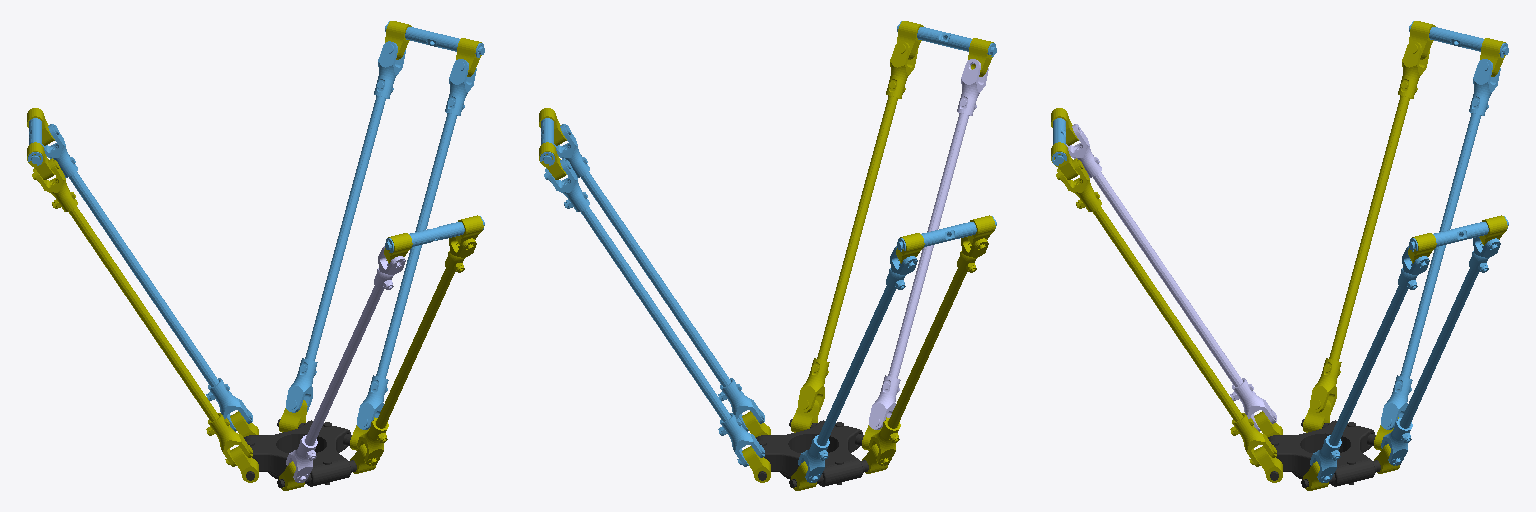
--- What the picture shows (computed from the rendered views, not written in the file) ---
3 views of the same robot in one strip: view 1: azimuth 30°, elevation 25°; view 2: azimuth 150°, elevation 25°; view 3: azimuth 270°, elevation 25° (orthographic).
Robot: DeltaManipulator_low — 22 links, 21 joints (21 continuous); root link low_base_link; default pose: every joint at zero.
Visible links, largest first — view 1: con222, con221, con322, con321, low_base_link, con121, con122, con201, con101, con212, con211; view 2: con122, con121, con222, con221, low_base_link, con321, con322, con301, con101, con111, con112; view 3: con322, con321, con122, con121, low_base_link, con221, con222, con301, con201, con312, con311.
Boxes of the visible links, box(x1,y1,x2,y2) form: con222: box(286, 41, 405, 412); con221: box(357, 59, 476, 429); con322: box(32, 158, 252, 466); con321: box(42, 124, 252, 431); low_base_link: box(244, 419, 376, 487); con121: box(286, 246, 405, 482); con122: box(357, 237, 476, 465); con201: box(385, 21, 484, 57); con101: box(385, 216, 484, 252); con212: box(385, 21, 411, 59); con211: box(456, 38, 481, 76); con122: box(798, 41, 917, 412); con121: box(869, 59, 988, 429); con222: box(544, 158, 764, 466); con221: box(554, 124, 764, 431); low_base_link: box(756, 419, 888, 487); con321: box(798, 246, 917, 482); con322: box(869, 237, 988, 465); con301: box(897, 216, 996, 251); con101: box(897, 21, 996, 56); con111: box(968, 38, 993, 76); con112: box(897, 21, 923, 59); con322: box(1310, 41, 1429, 412); con321: box(1381, 59, 1500, 429); con122: box(1056, 158, 1276, 466); con121: box(1066, 124, 1276, 431); low_base_link: box(1268, 419, 1400, 487); con221: box(1310, 246, 1429, 482); con222: box(1381, 237, 1500, 465); con301: box(1409, 21, 1508, 57); con201: box(1409, 216, 1508, 251); con312: box(1409, 21, 1435, 59); con311: box(1480, 38, 1505, 76).
Size in the robot's own frame: 0.3086 by 0.2681 by 0.2194 metres.
Meshes: 22 distinct files referenced, 22 mesh visuals loaded (22 binary STL).

URDF robot description (DeltaManipulator_low):
<?xml version="1.0" encoding="utf-8"?>
<!-- This URDF was automatically created by SolidWorks to URDF Exporter! Originally created by Stephen Brawner ([email redacted]) 
     Commit Version: 1.6.0-4-g7f85cfe  Build Version: 1.6.7995.38578
     For more information, please see http://wiki.ros.org/sw_urdf_exporter -->
<robot
  name="DeltaManipulator_low">
  <link
    name="low_base_link">
    <inertial>
      <origin
        xyz="1.67429367314842E-08 -1.09064797887415E-08 0.00928236062621901"
        rpy="0 0 0" />
      <mass
        value="0.0277052530707091" />
      <inertia
        ixx="7.21837490929565E-06"
        ixy="8.45348384024696E-15"
        ixz="4.72158451757837E-13"
        iyy="7.2183677173191E-06"
        iyz="2.82195144917255E-12"
        izz="1.36261235680752E-05" />
    </inertial>
    <visual>
      <origin
        xyz="0 0 0"
        rpy="0 0 0" />
      <geometry>
        <mesh
          filename="package://DeltaManipulator_low/meshes/low_base_link.STL" />
      </geometry>
      <material
        name="">
        <color
          rgba="0.23921568627451 0.23921568627451 0.23921568627451 1" />
      </material>
    </visual>
    <collision>
      <origin
        xyz="0 0 0"
        rpy="0 0 0" />
      <geometry>
        <mesh
          filename="package://DeltaManipulator_low/meshes/low_base_link.STL" />
      </geometry>
    </collision>
  </link>
  <link
    name="con132">
    <inertial>
      <origin
        xyz="-0.00839999999997948 -0.00255110064289737 0.00414343199090861"
        rpy="0 0 0" />
      <mass
        value="0.00144663342057291" />
      <inertia
        ixx="5.69218111313244E-08"
        ixy="2.44273409935316E-21"
        ixz="-4.1450722802468E-21"
        iyy="5.34923009400709E-08"
        iyz="1.74286623637077E-08"
        izz="3.5915899723966E-08" />
    </inertial>
    <visual>
      <origin
        xyz="0 0 0"
        rpy="0 0 0" />
      <geometry>
        <mesh
          filename="package://DeltaManipulator_low/meshes/con132.STL" />
      </geometry>
      <material
        name="">
        <color
          rgba="0.701960784313725 0.701960784313725 0.0235294117647059 1" />
      </material>
    </visual>
    <collision>
      <origin
        xyz="0 0 0"
        rpy="0 0 0" />
      <geometry>
        <mesh
          filename="package://DeltaManipulator_low/meshes/con132.STL" />
      </geometry>
    </collision>
  </link>
  <joint
    name="low_base_link_joint_con132"
    type="continuous">
    <origin
      xyz="0.0324 -0.03 0.01"
      rpy="0 0 0" />
    <parent
      link="low_base_link" />
    <child
      link="con132" />
    <axis
      xyz="1 0 0" />
    <limit
      lower="0"
      upper="0"
      effort="0"
      velocity="0" />
  </joint>
  <link
    name="con122">
    <inertial>
      <origin
        xyz="-0.00856714284415805 -0.107997535306405 4.26722990276573E-10"
        rpy="0 0 0" />
      <mass
        value="0.00805476418830123" />
      <inertia
        ixx="1.33289086435156E-05"
        ixy="-9.92148821070217E-13"
        ixz="-1.33623279028778E-13"
        iyy="1.17270399799116E-07"
        iyz="1.13827651604611E-13"
        izz="1.33651118373459E-05" />
    </inertial>
    <visual>
      <origin
        xyz="0 0 0"
        rpy="0 0 0" />
      <geometry>
        <mesh
          filename="package://DeltaManipulator_low/meshes/con122.STL" />
      </geometry>
      <material
        name="">
        <color
          rgba="0.701960784313725 0.701960784313725 0.0235294117647059 1" />
      </material>
    </visual>
    <collision>
      <origin
        xyz="0 0 0"
        rpy="0 0 0" />
      <geometry>
        <mesh
          filename="package://DeltaManipulator_low/meshes/con122.STL" />
      </geometry>
    </collision>
  </link>
  <joint
    name="con112_joint_con122"
    type="continuous">
    <origin
      xyz="-0.00839999999996208 -0.01369988040628 0.00565714387855465"
      rpy="-1.57079632679487 0.551881879692126 -1.57079632679488" />
    <parent
      link="con132" />
    <child
      link="con122" />
    <axis
      xyz="-1 0 0" />
  </joint>
  <link
    name="con112">
    <inertial>
      <origin
        xyz="-0.00870000000003146 -0.00713418628051073 1.02973185533983E-14"
        rpy="0 0 0" />
      <mass
        value="0.00144663342057292" />
      <inertia
        ixx="6.4223084468379E-08"
        ixy="-4.44708840920759E-20"
        ixz="4.25903745385736E-23"
        iyy="2.51851161956578E-08"
        iyz="-3.95245231882737E-21"
        izz="5.69218111313244E-08" />
    </inertial>
    <visual>
      <origin
        xyz="0 0 0"
        rpy="0 0 0" />
      <geometry>
        <mesh
          filename="package://DeltaManipulator_low/meshes/con112.STL" />
      </geometry>
      <material
        name="">
        <color
          rgba="0.701960784313725 0.701960784313725 0.0235294117647059 1" />
      </material>
    </visual>
    <collision>
      <origin
        xyz="0 0 0"
        rpy="0 0 0" />
      <geometry>
        <mesh
          filename="package://DeltaManipulator_low/meshes/con112.STL" />
      </geometry>
    </collision>
  </link>
  <joint
    name="con122_joint_con112"
    type="continuous">
    <origin
      xyz="0 -0.216000000000204 0"
      rpy="0 0 0" />
    <parent
      link="con122" />
    <child
      link="con112" />
    <axis
      xyz="-1 0 0" />
  </joint>
  <link
    name="con131">
    <inertial>
      <origin
        xyz="0.00840000000002056 -0.00255110064282124 0.00414343199086303"
        rpy="0 0 0" />
      <mass
        value="0.00144663342057292" />
      <inertia
        ixx="5.69218111313244E-08"
        ixy="2.42626352802046E-21"
        ixz="-4.12111242747796E-21"
        iyy="5.34923009400604E-08"
        iyz="1.74286623637129E-08"
        izz="3.59158997239764E-08" />
    </inertial>
    <visual>
      <origin
        xyz="0 0 0"
        rpy="0 0 0" />
      <geometry>
        <mesh
          filename="package://DeltaManipulator_low/meshes/con131.STL" />
      </geometry>
      <material
        name="">
        <color
          rgba="0.701960784313725 0.701960784313725 0.0235294117647059 1" />
      </material>
    </visual>
    <collision>
      <origin
        xyz="0 0 0"
        rpy="0 0 0" />
      <geometry>
        <mesh
          filename="package://DeltaManipulator_low/meshes/con131.STL" />
      </geometry>
    </collision>
  </link>
  <joint
    name="low_base_link_joint_con131"
    type="continuous">
    <origin
      xyz="-0.0324 -0.03 0.01"
      rpy="0 0 0" />
    <parent
      link="low_base_link" />
    <child
      link="con131" />
    <axis
      xyz="1 0 0" />
    <limit
      lower="0"
      upper="0"
      effort="0"
      velocity="0" />
  </joint>
  <link
    name="con121">
    <inertial>
      <origin
        xyz="-0.00856312123601444 -0.105002630041547 4.38555969317633E-10"
        rpy="0 0 0" />
      <mass
        value="0.00783743241112671" />
      <inertia
        ixx="1.33284062101042E-05"
        ixy="-9.92148821731961E-13"
        ixz="-1.33623279176585E-13"
        iyy="1.11814965966809E-07"
        iyz="1.13827550161805E-13"
        izz="1.33596564035138E-05" />
    </inertial>
    <visual>
      <origin
        xyz="0 0 0"
        rpy="0 0 0" />
      <geometry>
        <mesh
          filename="package://DeltaManipulator_low/meshes/con121.STL" />
      </geometry>
      <material
        name="">
        <color
          rgba="0.823529411764706 0.823529411764706 1 1" />
      </material>
    </visual>
    <collision>
      <origin
        xyz="0 0 0"
        rpy="0 0 0" />
      <geometry>
        <mesh
          filename="package://DeltaManipulator_low/meshes/con121.STL" />
      </geometry>
    </collision>
  </link>
  <joint
    name="con111_joint_con121"
    type="continuous">
    <origin
      xyz="0.0084000000000389 -0.0136998804061946 0.00565714387848937"
      rpy="-1.57079632679487 0.551881879692425 -1.57079632679488" />
    <parent
      link="con131" />
    <child
      link="con121" />
    <axis
      xyz="-1 0 0" />
  </joint>
  <link
    name="con111">
    <inertial>
      <origin
        xyz="-0.00870000000003163 -0.00713418628052964 1.10467190950203E-14"
        rpy="0 0 0" />
      <mass
        value="0.00144663342057292" />
      <inertia
        ixx="6.4223084468379E-08"
        ixy="-4.44377968675738E-20"
        ixz="3.96351118277406E-23"
        iyy="2.51851161956579E-08"
        iyz="-3.95040944425926E-21"
        izz="5.69218111313245E-08" />
    </inertial>
    <visual>
      <origin
        xyz="0 0 0"
        rpy="0 0 0" />
      <geometry>
        <mesh
          filename="package://DeltaManipulator_low/meshes/con111.STL" />
      </geometry>
      <material
        name="">
        <color
          rgba="0.701960784313725 0.701960784313725 0.0235294117647059 1" />
      </material>
    </visual>
    <collision>
      <origin
        xyz="0 0 0"
        rpy="0 0 0" />
      <geometry>
        <mesh
          filename="package://DeltaManipulator_low/meshes/con111.STL" />
      </geometry>
    </collision>
  </link>
  <joint
    name="con121_joint_con111"
    type="continuous">
    <origin
      xyz="0 -0.216000000000204 0"
      rpy="0 0 0" />
    <parent
      link="con121" />
    <child
      link="con111" />
    <axis
      xyz="-1 0 0" />
  </joint>
  <link
    name="con101">
    <inertial>
      <origin
        xyz="0.0323996683551133 8.23696387070028E-06 1.56603041795364E-05"
        rpy="0 0 0" />
      <mass
        value="0.00233438832438308" />
      <inertia
        ixx="1.61755929010394E-08"
        ixy="-7.61547745715908E-21"
        ixz="1.01195685842437E-22"
        iyy="5.60007469232193E-07"
        iyz="-7.07418759114319E-11"
        izz="5.59699025433267E-07" />
    </inertial>
    <visual>
      <origin
        xyz="0 0 0"
        rpy="0 0 0" />
      <geometry>
        <mesh
          filename="package://DeltaManipulator_low/meshes/con101.STL" />
      </geometry>
      <material
        name="">
        <color
          rgba="0.4 0.694117647058824 0.890196078431372 1" />
      </material>
    </visual>
    <collision>
      <origin
        xyz="0 0 0"
        rpy="0 0 0" />
      <geometry>
        <mesh
          filename="package://DeltaManipulator_low/meshes/con101.STL" />
      </geometry>
    </collision>
  </link>
  <joint
    name="con111_joint_con101"
    type="continuous">
    <origin
      xyz="-0.00870000000004845 -0.0120000000002979 -0.0083999999999872"
      rpy="2.12267820648732 -1.5707963267949 0" />
    <parent
      link="con111" />
    <child
      link="con101" />
    <axis
      xyz="-1 0 0" />
  </joint>
  <link
    name="con332">
    <inertial>
      <origin
        xyz="0.00840000000044769 0.00255110064402925 0.00414343198763067"
        rpy="0 0 0" />
      <mass
        value="0.00144663342066778" />
      <inertia
        ixx="5.69218111185373E-08"
        ixy="-7.62945691189174E-19"
        ixz="-2.03605302630082E-18"
        iyy="5.34923009369543E-08"
        iyz="-1.74286623623804E-08"
        izz="3.59158997189111E-08" />
    </inertial>
    <visual>
      <origin
        xyz="0 0 0"
        rpy="0 0 0" />
      <geometry>
        <mesh
          filename="package://DeltaManipulator_low/meshes/con332.STL" />
      </geometry>
      <material
        name="">
        <color
          rgba="0.701960784313725 0.701960784313725 0.0235294117647059 1" />
      </material>
    </visual>
    <collision>
      <origin
        xyz="0 0 0"
        rpy="0 0 0" />
      <geometry>
        <mesh
          filename="package://DeltaManipulator_low/meshes/con332.STL" />
      </geometry>
    </collision>
  </link>
  <joint
    name="low_base_link_joint_con332"
    type="continuous">
    <origin
      xyz="-0.0421807621135062 -0.0130592230826122 0.01"
      rpy="0 0 1.04719755119639" />
    <parent
      link="low_base_link" />
    <child
      link="con332" />
    <axis
      xyz="-1 0 0" />
    <limit
      lower="0"
      upper="0"
      effort="0"
      velocity="0" />
  </joint>
  <link
    name="con322">
    <inertial>
      <origin
        xyz="-0.00856714297822098 0.0312887486163433 -0.103365763960108"
        rpy="0 0 0" />
      <mass
        value="0.0080547645091816" />
      <inertia
        ixx="1.33289086568817E-05"
        ixy="4.16031823719611E-13"
        ixz="-9.1234218808197E-13"
        iyy="1.22531398797386E-05"
        iyz="3.6735196655898E-06"
        izz="1.229242377041E-06" />
    </inertial>
    <visual>
      <origin
        xyz="0 0 0"
        rpy="0 0 0" />
      <geometry>
        <mesh
          filename="package://DeltaManipulator_low/meshes/con322.STL" />
      </geometry>
      <material
        name="">
        <color
          rgba="0.701960784313725 0.701960784313725 0.0235294117647059 1" />
      </material>
    </visual>
    <collision>
      <origin
        xyz="0 0 0"
        rpy="0 0 0" />
      <geometry>
        <mesh
          filename="package://DeltaManipulator_low/meshes/con322.STL" />
      </geometry>
    </collision>
  </link>
  <joint
    name="con312_joint_con322"
    type="continuous">
    <origin
      xyz="0.00839999999999441 0.0136998804062363 0.00565714387859023"
      rpy="2.84766123614503 0.551881879692187 1.5707963267949" />
    <parent
      link="con332" />
    <child
      link="con322" />
    <axis
      xyz="-1 0 0" />
  </joint>
  <link
    name="con312">
    <inertial>
      <origin
        xyz="-0.00870000000261623 0.00206689691792372 -0.00682821726704888"
        rpy="0 0 0" />
      <mass
        value="0.00144663342066775" />
      <inertia
        ixx="6.42230844635441E-08"
        ixy="8.37120635178924E-19"
        ixz="-1.32414162558815E-18"
        iyy="5.42579569708567E-08"
        iyz="8.80032996499285E-09"
        izz="2.78489703400008E-08" />
    </inertial>
    <visual>
      <origin
        xyz="0 0 0"
        rpy="0 0 0" />
      <geometry>
        <mesh
          filename="package://DeltaManipulator_low/meshes/con312.STL" />
      </geometry>
      <material
        name="">
        <color
          rgba="0.701960784313725 0.701960784313725 0.0235294117647059 1" />
      </material>
    </visual>
    <collision>
      <origin
        xyz="0 0 0"
        rpy="0 0 0" />
      <geometry>
        <mesh
          filename="package://DeltaManipulator_low/meshes/con312.STL" />
      </geometry>
    </collision>
  </link>
  <joint
    name="con322_joint_con312"
    type="continuous">
    <origin
      xyz="0 0.0625789286453161 -0.206736251513112"
      rpy="0 0 0" />
    <parent
      link="con322" />
    <child
      link="con312" />
    <axis
      xyz="-1 0 0" />
  </joint>
  <link
    name="con331">
    <inertial>
      <origin
        xyz="0.00839999999970753 0.00255110064396974 -0.00414343198766864"
        rpy="0 0 0" />
      <mass
        value="0.00144663342066778" />
      <inertia
        ixx="5.69218111185374E-08"
        ixy="7.62959920167044E-19"
        ixz="-2.03602074300845E-18"
        iyy="5.34923009369543E-08"
        iyz="1.74286623623805E-08"
        izz="3.59158997189112E-08" />
    </inertial>
    <visual>
      <origin
        xyz="0 0 0"
        rpy="0 0 0" />
      <geometry>
        <mesh
          filename="package://DeltaManipulator_low/meshes/con331.STL" />
      </geometry>
      <material
        name="">
        <color
          rgba="0.701960784313725 0.701960784313725 0.0235294117647059 1" />
      </material>
    </visual>
    <collision>
      <origin
        xyz="0 0 0"
        rpy="0 0 0" />
      <geometry>
        <mesh
          filename="package://DeltaManipulator_low/meshes/con331.STL" />
      </geometry>
    </collision>
  </link>
  <joint
    name="low_base_link_joint_con331"
    type="continuous">
    <origin
      xyz="-0.00978076211349385 0.0430592230826123 0.01"
      rpy="3.14159265358979 0 -2.09439510239319" />
    <parent
      link="low_base_link" />
    <child
      link="con331" />
    <axis
      xyz="1 0 0" />
    <limit
      lower="0"
      upper="0"
      effort="0"
      velocity="0" />
  </joint>
  <link
    name="con321">
    <inertial>
      <origin
        xyz="-0.00856714297829808 0.031288748616278 -0.103365763960126"
        rpy="0 0 0" />
      <mass
        value="0.00805476450918166" />
      <inertia
        ixx="1.33289086568818E-05"
        ixy="4.16031823764279E-13"
        ixz="-9.12342185087576E-13"
        iyy="1.22531398797366E-05"
        iyz="3.67351966559283E-06"
        izz="1.22924237704303E-06" />
    </inertial>
    <visual>
      <origin
        xyz="0 0 0"
        rpy="0 0 0" />
      <geometry>
        <mesh
          filename="package://DeltaManipulator_low/meshes/con321.STL" />
      </geometry>
      <material
        name="">
        <color
          rgba="0.4 0.694117647058824 0.890196078431372 1" />
      </material>
    </visual>
    <collision>
      <origin
        xyz="0 0 0"
        rpy="0 0 0" />
      <geometry>
        <mesh
          filename="package://DeltaManipulator_low/meshes/con321.STL" />
      </geometry>
    </collision>
  </link>
  <joint
    name="con311_joint_con321"
    type="continuous">
    <origin
      xyz="0.00840000000006613 0.0136998804062421 -0.00565714387858662"
      rpy="-0.293931417444622 -0.55188187969219 1.5707963267949" />
    <parent
      link="con331" />
    <child
      link="con321" />
    <axis
      xyz="-1 0 0" />
  </joint>
  <link
    name="con311">
    <inertial>
      <origin
        xyz="-0.0087000000026935 0.0020668969178286 -0.006828217267079"
        rpy="0 0 0" />
      <mass
        value="0.00144663342066775" />
      <inertia
        ixx="6.42230844635439E-08"
        ixy="8.37140901103932E-19"
        ixz="-1.32412342761467E-18"
        iyy="5.42579569708587E-08"
        iyz="8.80032996498922E-09"
        izz="2.78489703399984E-08" />
    </inertial>
    <visual>
      <origin
        xyz="0 0 0"
        rpy="0 0 0" />
      <geometry>
        <mesh
          filename="package://DeltaManipulator_low/meshes/con311.STL" />
      </geometry>
      <material
        name="">
        <color
          rgba="0.701960784313725 0.701960784313725 0.0235294117647059 1" />
      </material>
    </visual>
    <collision>
      <origin
        xyz="0 0 0"
        rpy="0 0 0" />
      <geometry>
        <mesh
          filename="package://DeltaManipulator_low/meshes/con311.STL" />
      </geometry>
    </collision>
  </link>
  <joint
    name="con321_joint_311"
    type="continuous">
    <origin
      xyz="0 0.0625789286453729 -0.206736251513094"
      rpy="0 0 0" />
    <parent
      link="con321" />
    <child
      link="con311" />
    <axis
      xyz="-1 0 0" />
  </joint>
  <link
    name="con301">
    <inertial>
      <origin
        xyz="0.0323996683551134 -8.23696386992312E-06 -1.56603041806813E-05"
        rpy="0 0 0" />
      <mass
        value="0.00233438832438308" />
      <inertia
        ixx="1.61755929010393E-08"
        ixy="-2.40713257441378E-22"
        ixz="-1.20817503197411E-23"
        iyy="5.60007469232193E-07"
        iyz="-7.07418759113704E-11"
        izz="5.59699025433267E-07" />
    </inertial>
    <visual>
      <origin
        xyz="0 0 0"
        rpy="0 0 0" />
      <geometry>
        <mesh
          filename="package://DeltaManipulator_low/meshes/con301.STL" />
      </geometry>
      <material
        name="">
        <color
          rgba="0.4 0.694117647058824 0.890196078431372 1" />
      </material>
    </visual>
    <collision>
      <origin
        xyz="0 0 0"
        rpy="0 0 0" />
      <geometry>
        <mesh
          filename="package://DeltaManipulator_low/meshes/con301.STL" />
      </geometry>
    </collision>
  </link>
  <joint
    name="con311_joint_con301"
    type="continuous">
    <origin
      xyz="-0.00870000000001697 0.0115163502613841 -0.00905172230355344"
      rpy="-0.551881879692191 0.293931417444623 -1.5707963267949" />
    <parent
      link="con311" />
    <child
      link="con301" />
    <axis
      xyz="-1 0 0" />
  </joint>
  <link
    name="con232">
    <inertial>
      <origin
        xyz="-0.00839999999976911 0.00255110064399902 -0.00414343198765144"
        rpy="0 0 0" />
      <mass
        value="0.00144663342066774" />
      <inertia
        ixx="5.69218111185368E-08"
        ixy="-7.67975073417221E-19"
        ixz="2.04390558476395E-18"
        iyy="5.34923009369538E-08"
        iyz="1.74286623623804E-08"
        izz="3.59158997189106E-08" />
    </inertial>
    <visual>
      <origin
        xyz="0 0 0"
        rpy="0 0 0" />
      <geometry>
        <mesh
          filename="package://DeltaManipulator_low/meshes/con232.STL" />
      </geometry>
      <material
        name="">
        <color
          rgba="0.701960784313725 0.701960784313725 0.0235294117647059 1" />
      </material>
    </visual>
    <collision>
      <origin
        xyz="0 0 0"
        rpy="0 0 0" />
      <geometry>
        <mesh
          filename="package://DeltaManipulator_low/meshes/con232.STL" />
      </geometry>
    </collision>
  </link>
  <joint
    name="low_base_link_joint_con232"
    type="continuous">
    <origin
      xyz="0.00978076211349385 0.0430592230826123 0.01"
      rpy="-3.14159265358979 0 2.09439510239343" />
    <parent
      link="low_base_link" />
    <child
      link="con232" />
    <axis
      xyz="1 0 0" />
    <limit
      lower="0"
      upper="0"
      effort="0"
      velocity="0" />
  </joint>
  <link
    name="con222">
    <inertial>
      <origin
        xyz="-0.00856714264801012 0.0312887519080221 0.103365769583455"
        rpy="0 0 0" />
      <mass
        value="0.00805476454715734" />
      <inertia
        ixx="1.33289086569403E-05"
        ixy="1.60265797454605E-13"
        ixz="9.89799831392004E-13"
        iyy="1.22531397536402E-05"
        iyz="-3.67351985492551E-06"
        izz="1.22924250334634E-06" />
    </inertial>
    <visual>
      <origin
        xyz="0 0 0"
        rpy="0 0 0" />
      <geometry>
        <mesh
          filename="package://DeltaManipulator_low/meshes/con222.STL" />
      </geometry>
      <material
        name="">
        <color
          rgba="0.4 0.694117647058824 0.890196078431372 1" />
      </material>
    </visual>
    <collision>
      <origin
        xyz="0 0 0"
        rpy="0 0 0" />
      <geometry>
        <mesh
          filename="package://DeltaManipulator_low/meshes/con222.STL" />
      </geometry>
    </collision>
  </link>
  <joint
    name="con212_joint_con222"
    type="continuous">
    <origin
      xyz="-0.00840000000002473 0.013699880406254 -0.0056571438785642"
      rpy="-2.84766123614501 -0.551881879692188 1.57079632679489" />
    <parent
      link="con232" />
    <child
      link="con222" />
    <axis
      xyz="-1 0 0" />
  </joint>
  <link
    name="con212">
    <inertial>
      <origin
        xyz="-0.00870000000268171 0.00206689691781871 0.00682821726709618"
        rpy="0 0 0" />
      <mass
        value="0.00144663342066777" />
      <inertia
        ixx="6.42230844635445E-08"
        ixy="8.37302408118533E-19"
        ixz="1.32410771118303E-18"
        iyy="5.42579569708618E-08"
        iyz="-8.80032996498567E-09"
        izz="2.78489703399963E-08" />
    </inertial>
    <visual>
      <origin
        xyz="0 0 0"
        rpy="0 0 0" />
      <geometry>
        <mesh
          filename="package://DeltaManipulator_low/meshes/con212.STL" />
      </geometry>
      <material
        name="">
        <color
          rgba="0.701960784313725 0.701960784313725 0.0235294117647059 1" />
      </material>
    </visual>
    <collision>
      <origin
        xyz="0 0 0"
        rpy="0 0 0" />
      <geometry>
        <mesh
          filename="package://DeltaManipulator_low/meshes/con212.STL" />
      </geometry>
    </collision>
  </link>
  <joint
    name="con222_joint_con212"
    type="continuous">
    <origin
      xyz="0 0.06257892864532 0.20673625151311"
      rpy="0 0 0" />
    <parent
      link="con222" />
    <child
      link="con212" />
    <axis
      xyz="-1 0 0" />
  </joint>
  <link
    name="con231">
    <inertial>
      <origin
        xyz="-0.00840000000026501 0.00255110064399339 0.00414343198765144"
        rpy="0 0 0" />
      <mass
        value="0.00144663342066776" />
      <inertia
        ixx="5.69218111185367E-08"
        ixy="7.67279501314388E-19"
        ixz="2.04040145390088E-18"
        iyy="5.34923009369539E-08"
        iyz="-1.74286623623803E-08"
        izz="3.59158997189107E-08" />
    </inertial>
    <visual>
      <origin
        xyz="0 0 0"
        rpy="0 0 0" />
      <geometry>
        <mesh
          filename="package://DeltaManipulator_low/meshes/con231.STL" />
      </geometry>
      <material
        name="">
        <color
          rgba="0.701960784313725 0.701960784313725 0.0235294117647059 1" />
      </material>
    </visual>
    <collision>
      <origin
        xyz="0 0 0"
        rpy="0 0 0" />
      <geometry>
        <mesh
          filename="package://DeltaManipulator_low/meshes/con231.STL" />
      </geometry>
    </collision>
  </link>
  <joint
    name="low_base_link_joint_con231"
    type="continuous">
    <origin
      xyz="0.0421807621135062 -0.0130592230826122 0.01"
      rpy="0 0 -1.04719755119638" />
    <parent
      link="low_base_link" />
    <child
      link="con231" />
    <axis
      xyz="-1 0 0" />
    <limit
      lower="0"
      upper="0"
      effort="0"
      velocity="0" />
  </joint>
  <link
    name="con221">
    <inertial>
      <origin
        xyz="-0.00856714264801156 0.0312887519080263 0.103365769583449"
        rpy="0 0 0" />
      <mass
        value="0.00805476454715729" />
      <inertia
        ixx="1.33289086569403E-05"
        ixy="1.60265796807749E-13"
        ixz="9.89799825251015E-13"
        iyy="1.22531397536399E-05"
        iyz="-3.67351985492593E-06"
        izz="1.22924250334662E-06" />
    </inertial>
    <visual>
      <origin
        xyz="0 0 0"
        rpy="0 0 0" />
      <geometry>
        <mesh
          filename="package://DeltaManipulator_low/meshes/con221.STL" />
      </geometry>
      <material
        name="">
        <color
          rgba="0.4 0.694117647058824 0.890196078431372 1" />
      </material>
    </visual>
    <collision>
      <origin
        xyz="0 0 0"
        rpy="0 0 0" />
      <geometry>
        <mesh
          filename="package://DeltaManipulator_low/meshes/con221.STL" />
      </geometry>
    </collision>
  </link>
  <joint
    name="con211_joint_con221"
    type="continuous">
    <origin
      xyz="-0.0083999999999621 0.0136998804062472 0.00565714387855959"
      rpy="0.293931417444643 0.551881879692188 1.5707963267947" />
    <parent
      link="con231" />
    <child
      link="con221" />
    <axis
      xyz="-1 0 0" />
  </joint>
  <link
    name="con211">
    <inertial>
      <origin
        xyz="-0.00870000000268305 0.00206689691783379 0.00682821726709638"
        rpy="0 0 0" />
      <mass
        value="0.00144663342066778" />
      <inertia
        ixx="6.42230844635446E-08"
        ixy="8.37300340167001E-19"
        ixz="1.32407379677792E-18"
        iyy="5.42579569708643E-08"
        iyz="-8.80032996498205E-09"
        izz="2.7848970339994E-08" />
    </inertial>
    <visual>
      <origin
        xyz="0 0 0"
        rpy="0 0 0" />
      <geometry>
        <mesh
          filename="package://DeltaManipulator_low/meshes/con211.STL" />
      </geometry>
      <material
        name="">
        <color
          rgba="0.701960784313725 0.701960784313725 0.0235294117647059 1" />
      </material>
    </visual>
    <collision>
      <origin
        xyz="0 0 0"
        rpy="0 0 0" />
      <geometry>
        <mesh
          filename="package://DeltaManipulator_low/meshes/con211.STL" />
      </geometry>
    </collision>
  </link>
  <joint
    name="con221_joint_con211"
    type="continuous">
    <origin
      xyz="0 0.0625789286453279 0.206736251513108"
      rpy="0 0 0" />
    <parent
      link="con221" />
    <child
      link="con211" />
    <axis
      xyz="-1 0 0" />
  </joint>
  <link
    name="con201">
    <inertial>
      <origin
        xyz="0.0323996683551134 -8.23696385646167E-06 -1.56603042108239E-05"
        rpy="0 0 0" />
      <mass
        value="0.00233438832438308" />
      <inertia
        ixx="1.61755929010393E-08"
        ixy="-7.07191379767218E-23"
        ixz="-2.58982141366547E-22"
        iyy="5.60007469232193E-07"
        iyz="-7.07418759113909E-11"
        izz="5.59699025433267E-07" />
    </inertial>
    <visual>
      <origin
        xyz="0 0 0"
        rpy="0 0 0" />
      <geometry>
        <mesh
          filename="package://DeltaManipulator_low/meshes/con201.STL" />
      </geometry>
      <material
        name="">
        <color
          rgba="0.4 0.694117647058824 0.890196078431372 1" />
      </material>
    </visual>
    <collision>
      <origin
        xyz="0 0 0"
        rpy="0 0 0" />
      <geometry>
        <mesh
          filename="package://DeltaManipulator_low/meshes/con201.STL" />
      </geometry>
    </collision>
  </link>
  <joint
    name="con211_joint_con201"
    type="continuous">
    <origin
      xyz="-0.00869999999990632 -0.00456313596744652 0.01391897230913"
      rpy="2.58971077389761 0.29393141744464 1.5707963267949" />
    <parent
      link="con211" />
    <child
      link="con201" />
    <axis
      xyz="-1 0 0" />
  </joint>
</robot>
